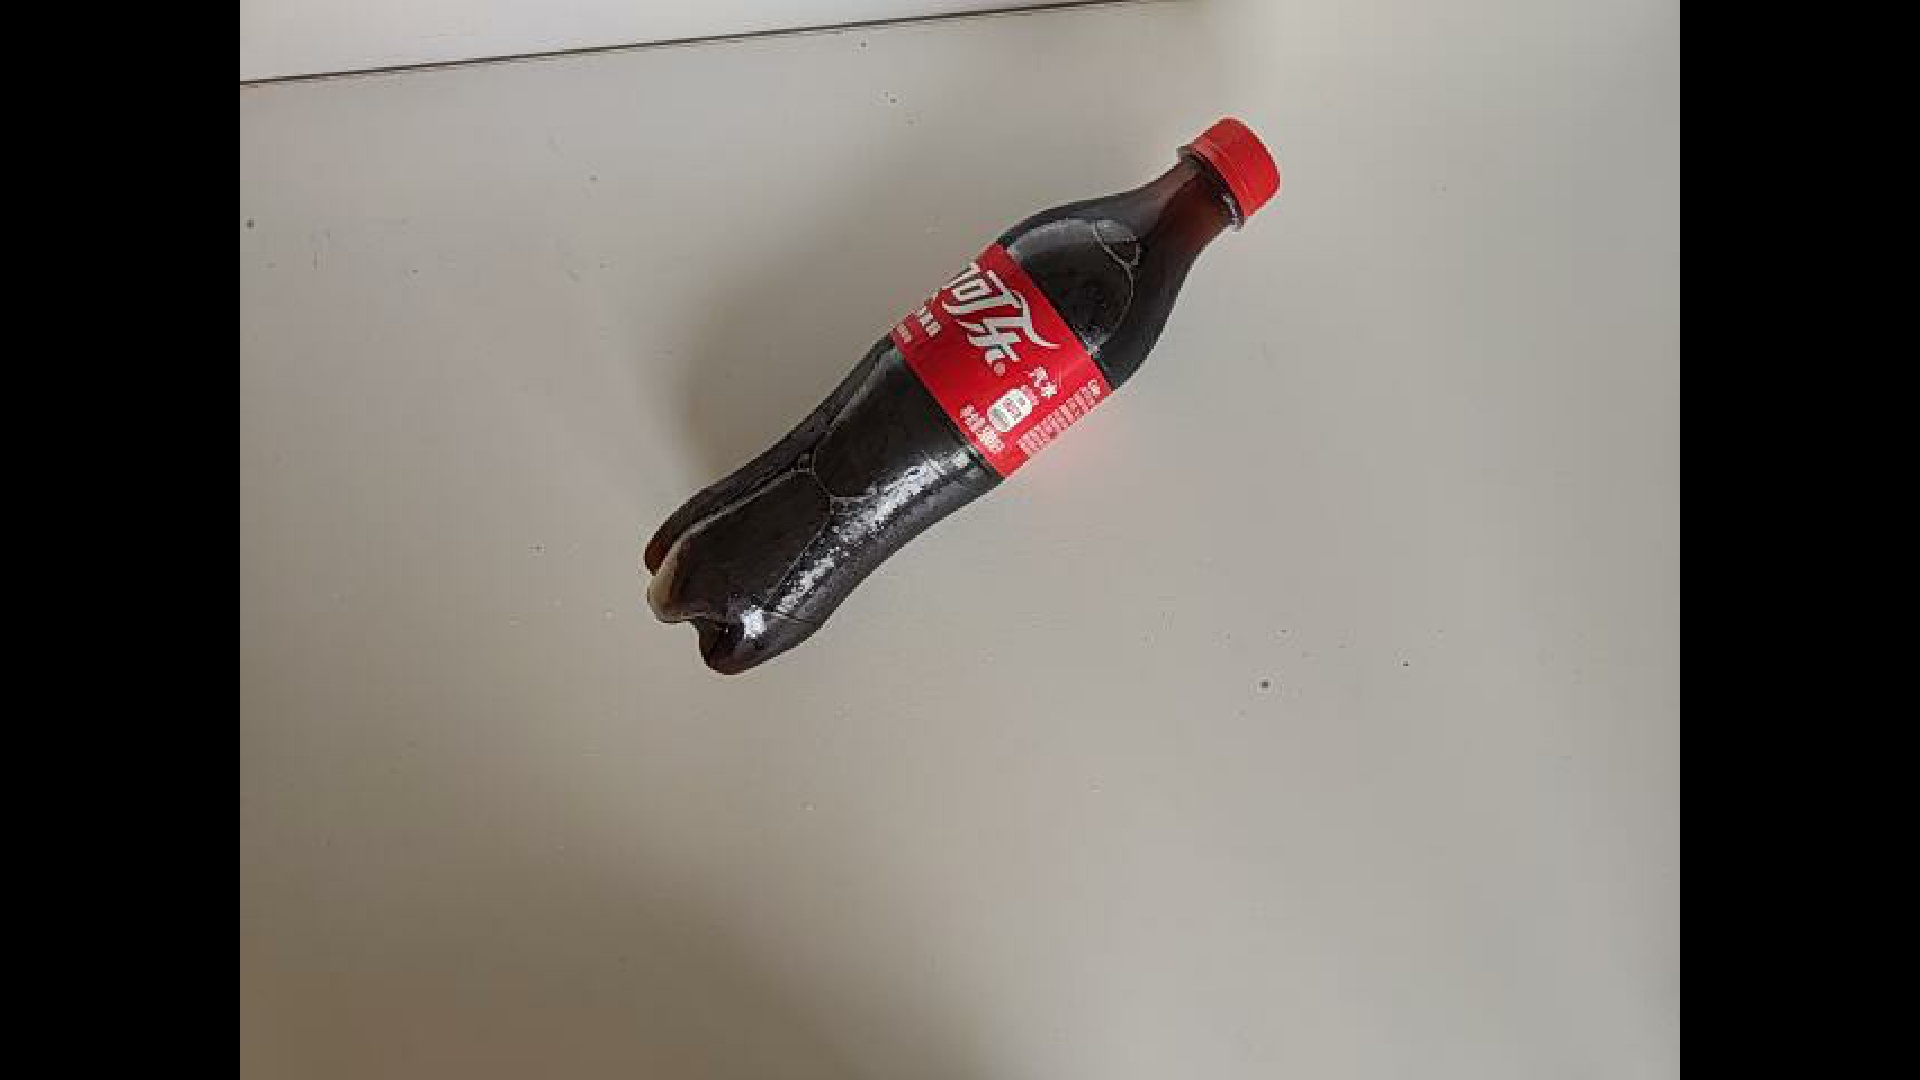cola: (144, 66, 1325, 647)
